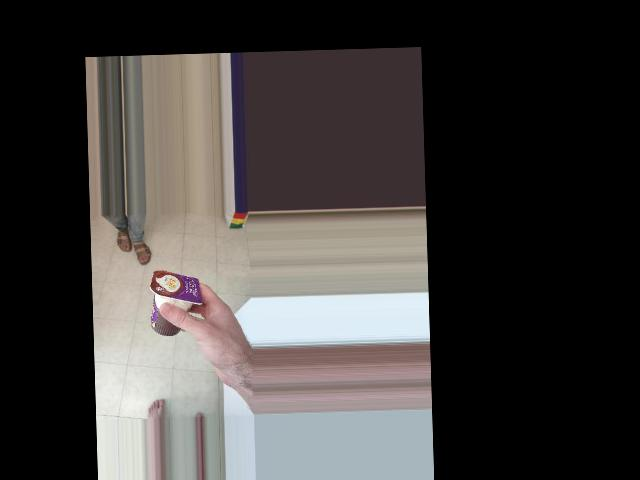milky: (152, 262, 203, 344)
